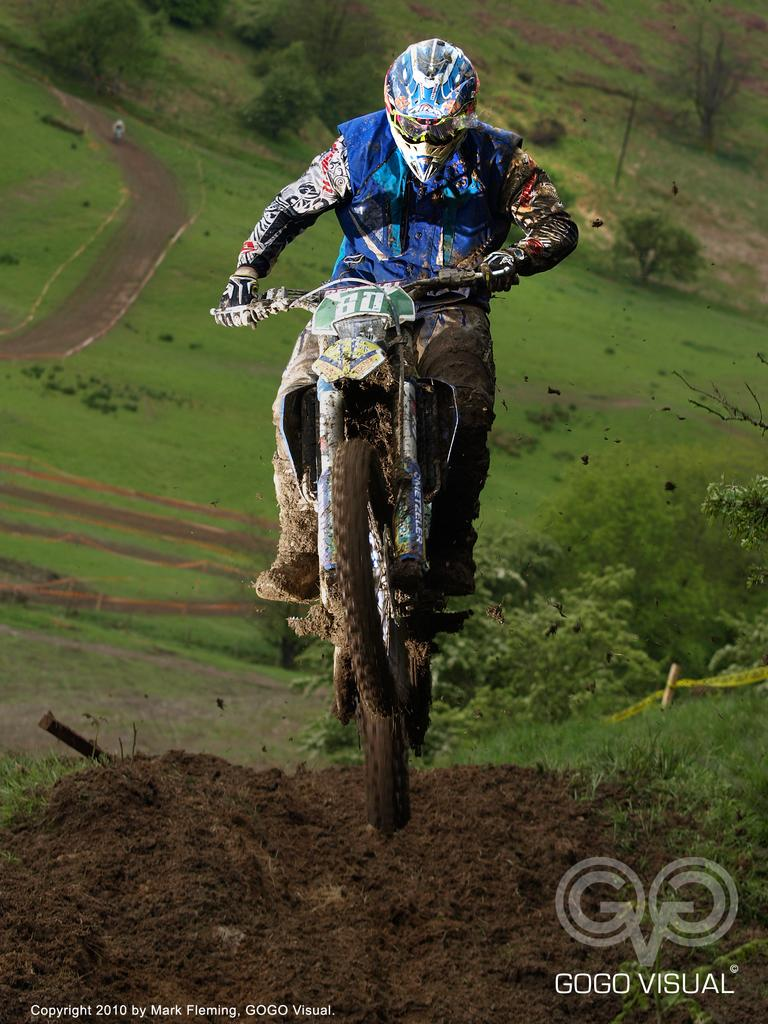helmet: (383, 38, 481, 183)
